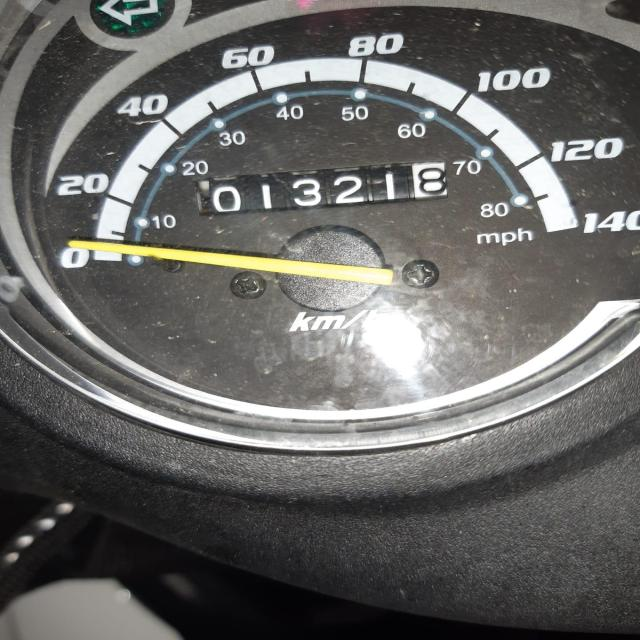odometer: (192, 156, 454, 223)
